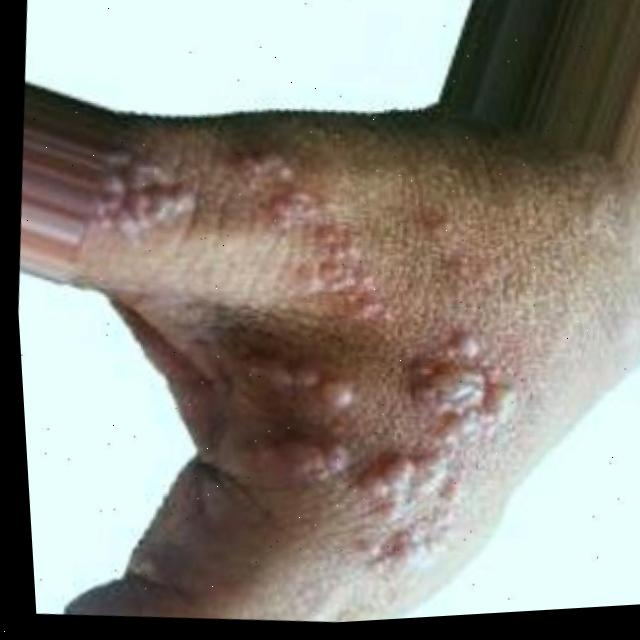Shingles: (57, 111, 560, 599)
